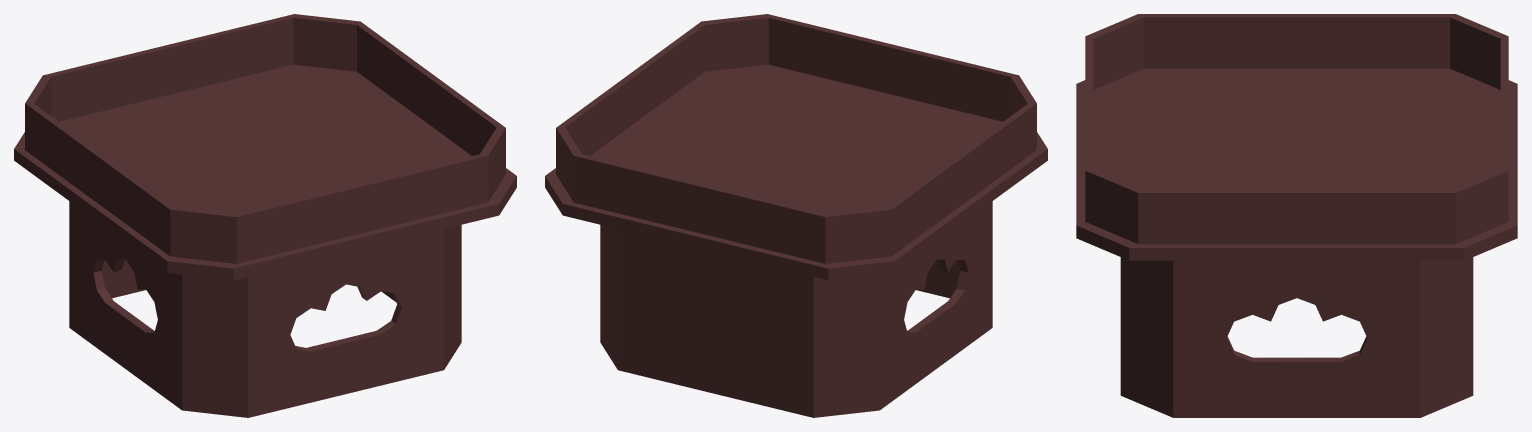
The model's file is ritual_objects_sanbo.fbx.
The picture shows the model from 3 angles, left to right: view 1: azimuth 30°, elevation 25°; view 2: azimuth 150°, elevation 25°; view 3: azimuth 270°, elevation 25°; orthographic projection. The views are drawn at different scales.
Visible parts, largest first — view 1: ritual_objects_sanbo; view 2: ritual_objects_sanbo; view 3: ritual_objects_sanbo.
Part boxes in pixels (x1,y1,x2,y2): ritual_objects_sanbo: (14, 14, 516, 417); ritual_objects_sanbo: (545, 14, 1047, 417); ritual_objects_sanbo: (1076, 14, 1517, 417).
Size of the model in its own units: 25 by 15 by 25.
1 material, 1 textured.
